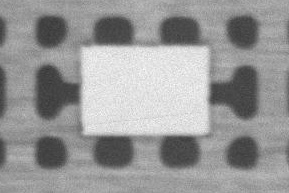DIE_CRACK: (132, 75, 289, 83)
